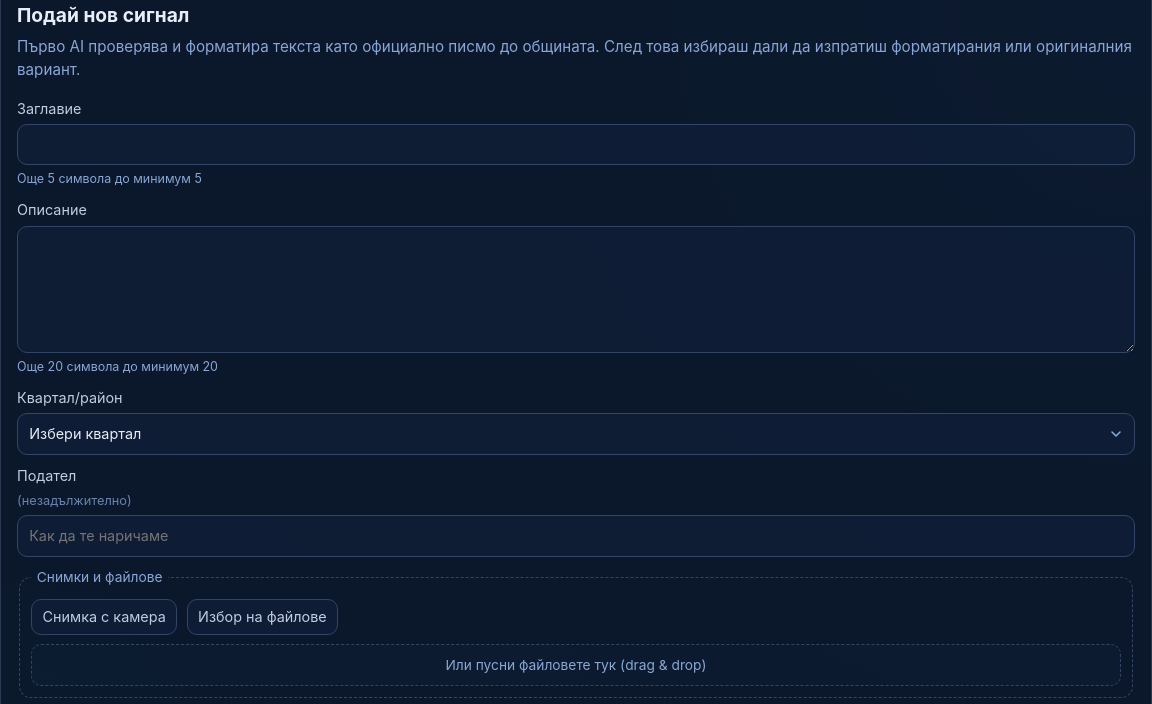
Scenario: SignalForm › keeps the AI review button disabled until title and description meet the minimum length
Type "Short" into the field labelled "Заглавие".
click(576, 145); type("Short")  # box [17,124,1135,165]
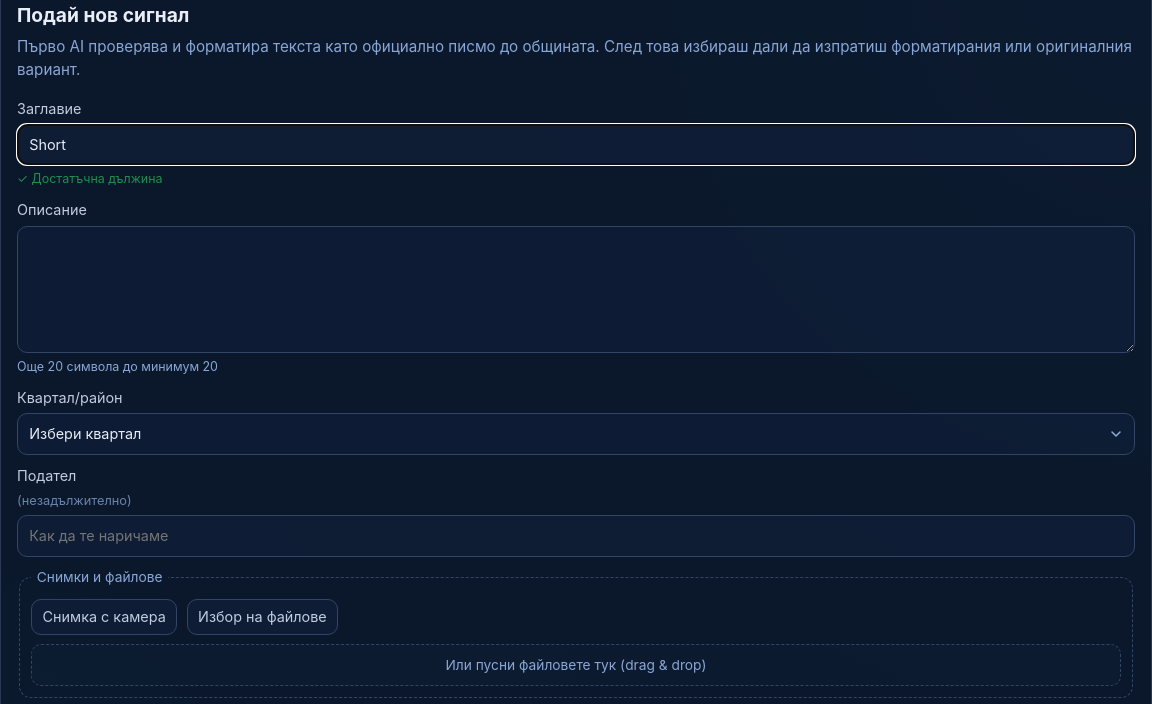
Type "This description is definitely long enough to pass validation." into the text box labelled "Описание".
click(576, 289); type("This description is definitely long enough to pass validation.")  # box [17,226,1135,353]
(page scrolled)
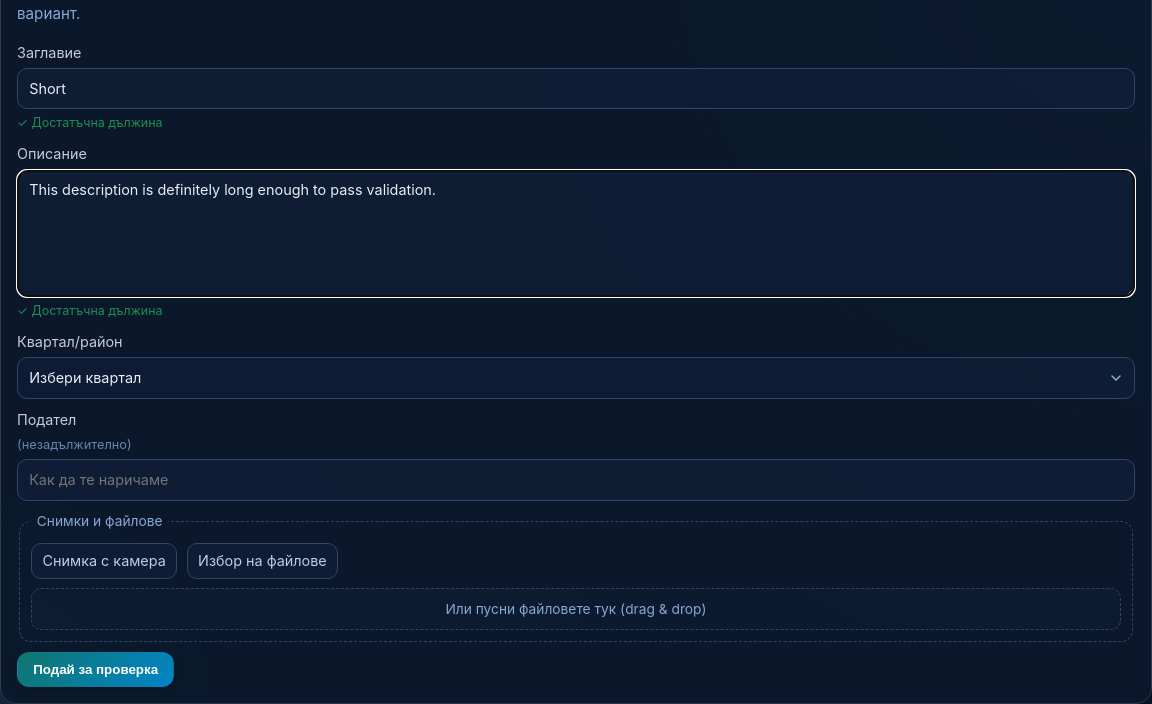
Expected: the button "Подай за проверка" is enabled, [17,652,174,687]
